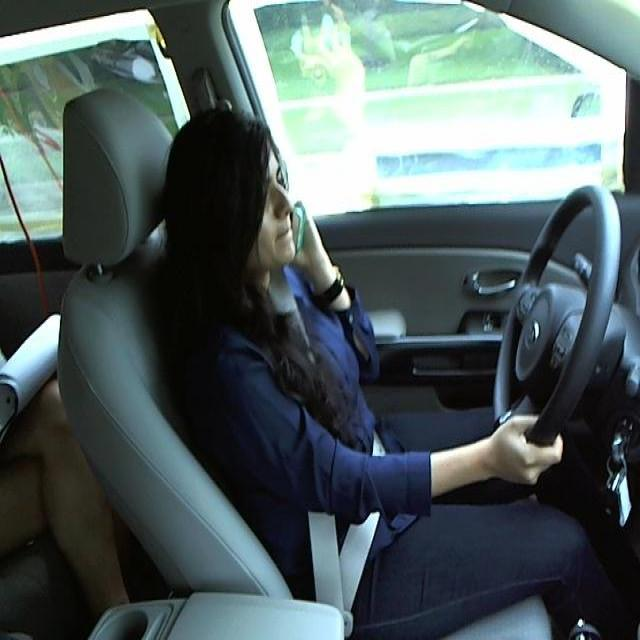using_phone: (122, 94, 359, 331)
